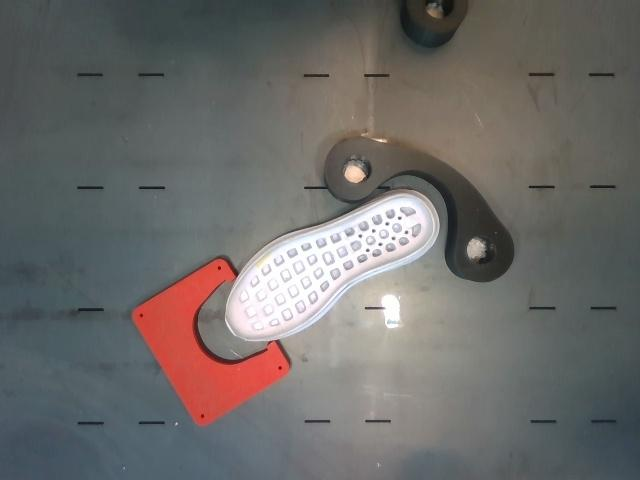shoes: (226, 195, 433, 340)
